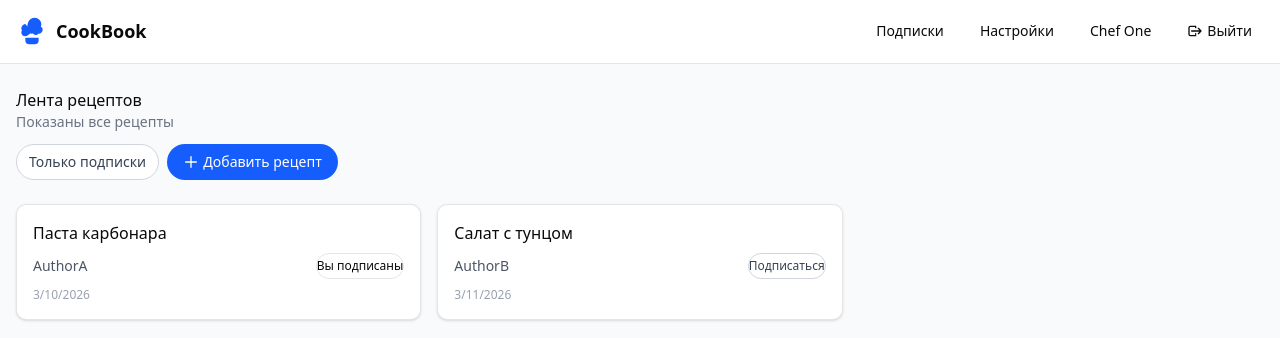
Test case: App integration › unsubscribes from subscriptions page and shows empty state
The width and height of the screenshot is (1280, 338).
Expected: the heading "Паста карбонара" is shown, top-left (33, 222), bottom-right (167, 244)
Click the button "Подписки". click: (910, 31)
box: top-left (864, 17), bottom-right (956, 45)
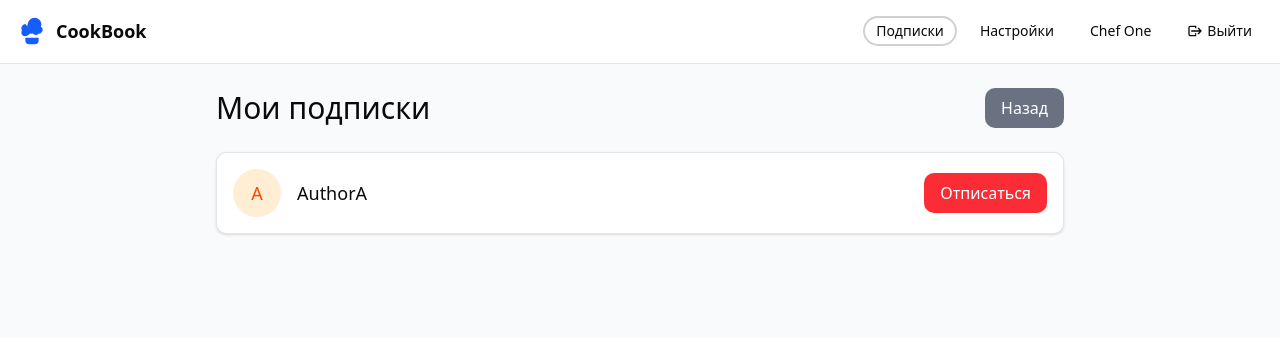
Click the button "Отписаться". click: (986, 193)
box: top-left (924, 173), bottom-right (1047, 213)
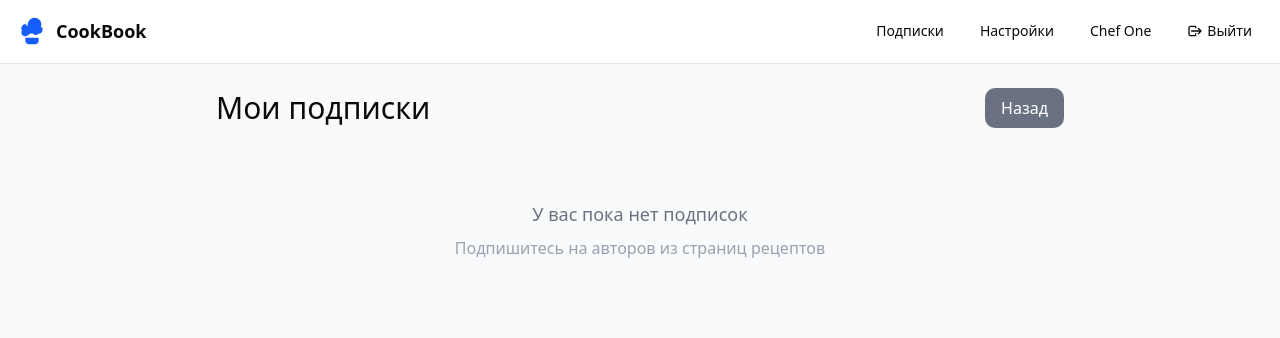
Now the text "У вас пока нет подписок" is shown, box top-left (532, 202), bottom-right (748, 226)
